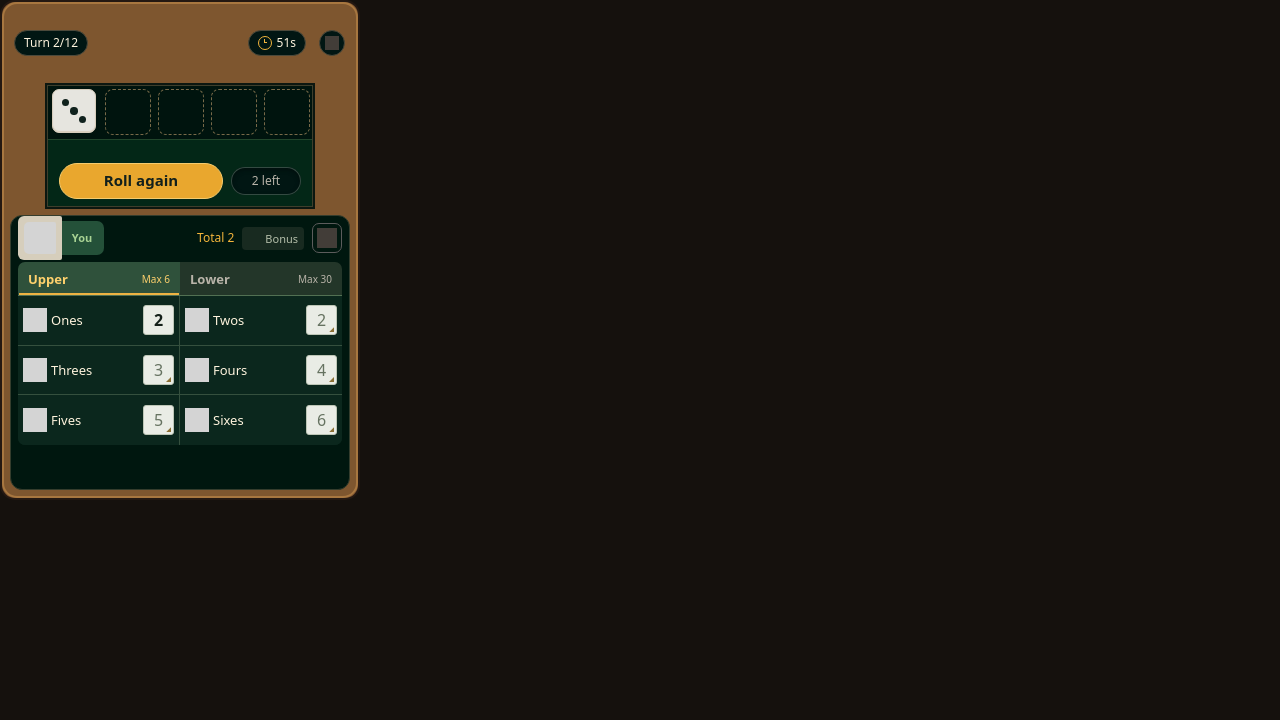
shows a confirm-only rate-limit notice over the retained Settings layer without replaying
Click the button named "Settings": (332, 42) [310,20,354,64]
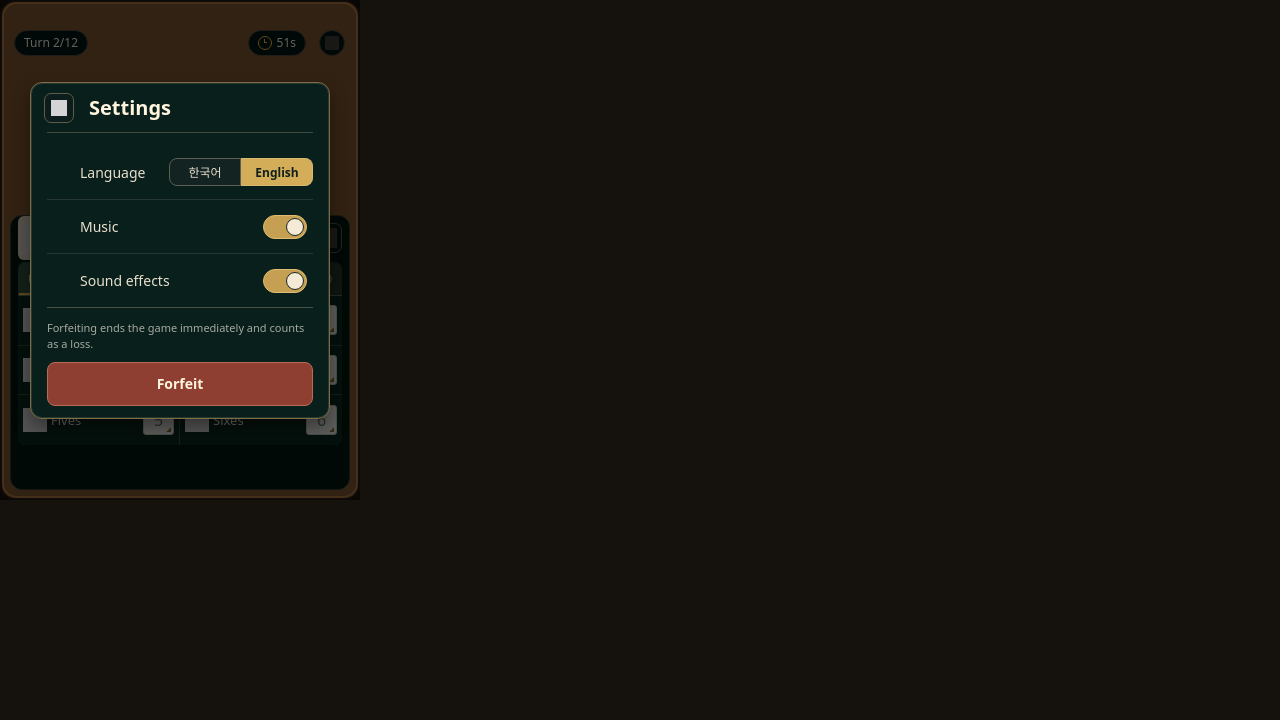
Click the button "Forfeit": (180, 384) [47,362,313,406]
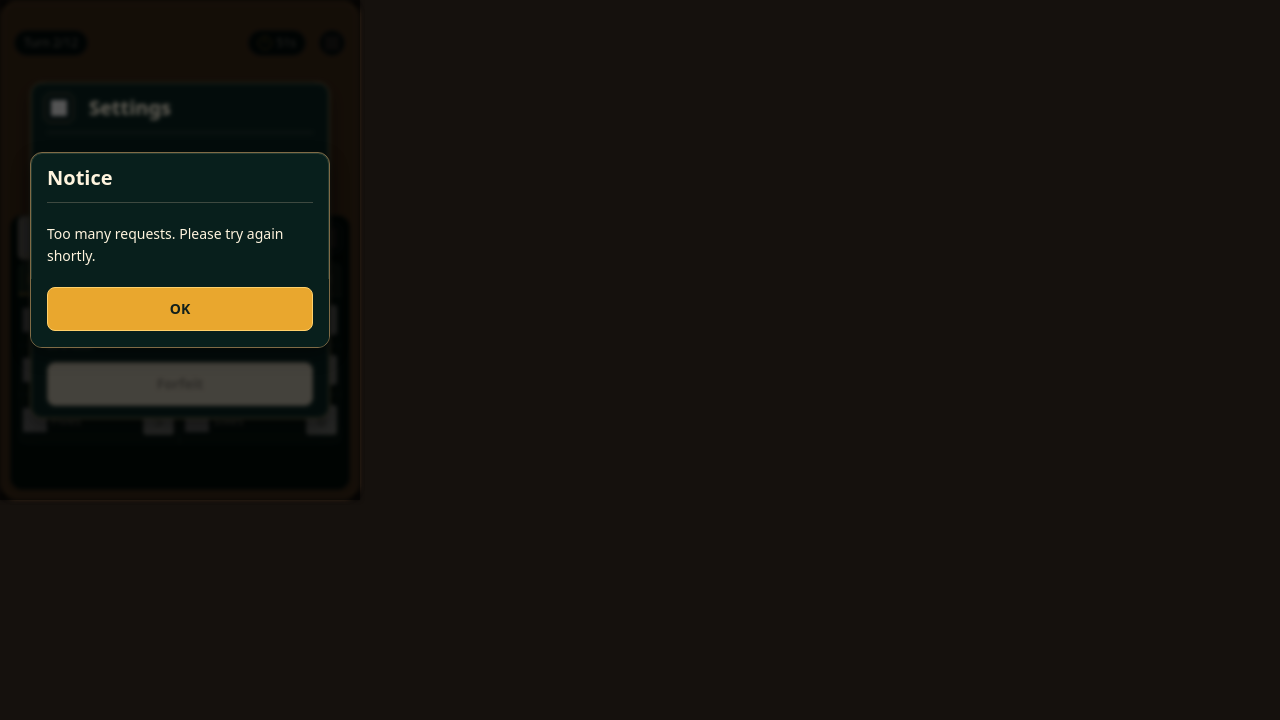
Expected: the text "Too many requests. Please try again shortly." is shown, [47,224,284,265]
Click the button "OK": (180, 309) [47,287,313,331]
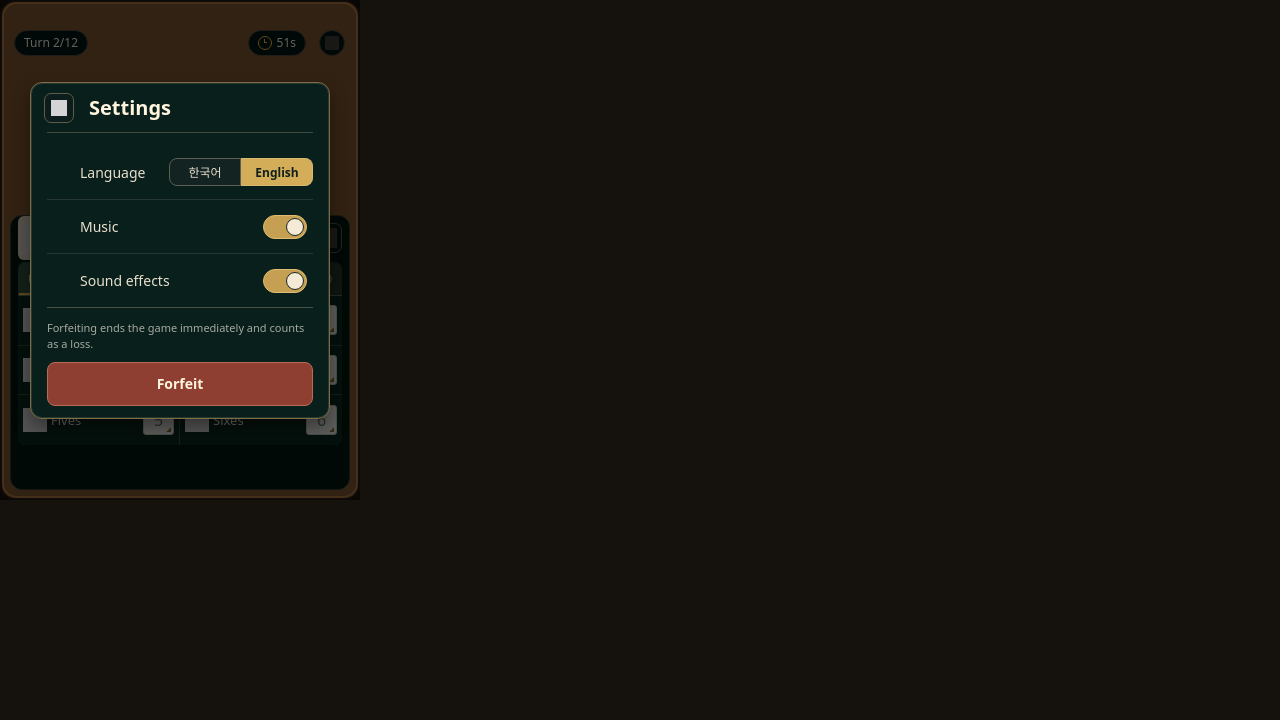
Expected: the dialog is gone
